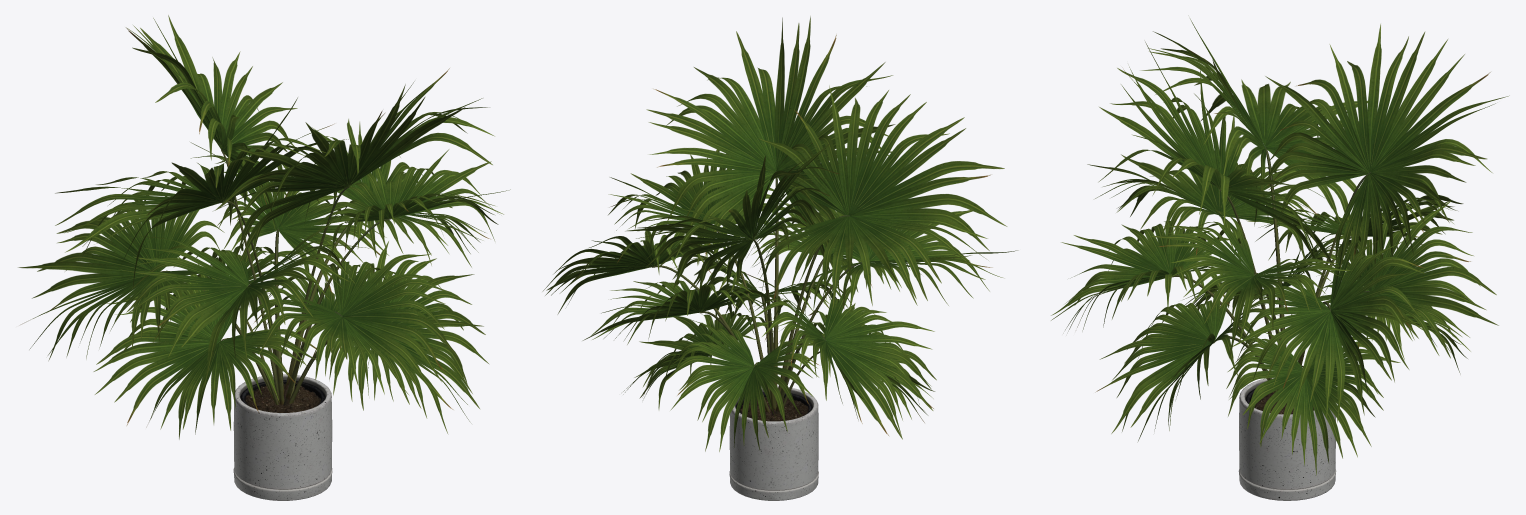
File: plant_free_livistona_chinensis_fan_allquad.glb
3 renders of one model, left to right at view 1: azimuth 30°, elevation 25°; view 2: azimuth 150°, elevation 25°; view 3: azimuth 270°, elevation 25°, orthographic. The views are drawn at different scales.
Parts seen in each view (by area): view 1: LIVISTONA_CHINENSIS_LIVISTONA_CHINENSIS_Mat_0, PLANTER_TERRA_BASE_PLANTER_BOTTOM_CROSS_Mat_0; view 2: LIVISTONA_CHINENSIS_LIVISTONA_CHINENSIS_Mat_0, PLANTER_TERRA_BASE_PLANTER_BOTTOM_CROSS_Mat_0; view 3: LIVISTONA_CHINENSIS_LIVISTONA_CHINENSIS_Mat_0, PLANTER_TERRA_BASE_PLANTER_BOTTOM_CROSS_Mat_0.
Boxes of the visible parts, x1=… form: LIVISTONA_CHINENSIS_LIVISTONA_CHINENSIS_Mat_0: x1=18, y1=15, x2=510, y2=439; PLANTER_TERRA_BASE_PLANTER_BOTTOM_CROSS_Mat_0: x1=233, y1=374, x2=332, y2=500; LIVISTONA_CHINENSIS_LIVISTONA_CHINENSIS_Mat_0: x1=542, y1=16, x2=1017, y2=451; PLANTER_TERRA_BASE_PLANTER_BOTTOM_CROSS_Mat_0: x1=729, y1=386, x2=818, y2=500; LIVISTONA_CHINENSIS_LIVISTONA_CHINENSIS_Mat_0: x1=1051, y1=18, x2=1509, y2=475; PLANTER_TERRA_BASE_PLANTER_BOTTOM_CROSS_Mat_0: x1=1238, y1=377, x2=1336, y2=500.
Bounding box in the file's own units: 1.6 × 1.53 × 1.45.
Materials: 2 (2 with a texture image).
